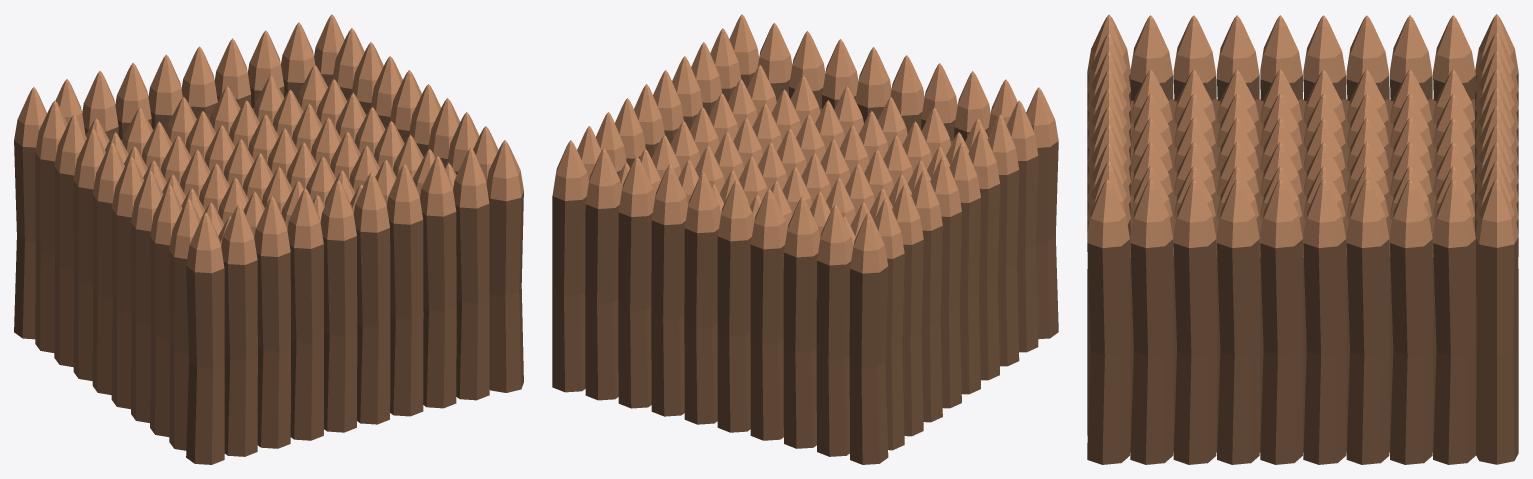
Rendered from Wall.fbx.
3 views of the same model, side by side, from view 1: azimuth 30°, elevation 25°; view 2: azimuth 150°, elevation 25°; view 3: azimuth 270°, elevation 25° (orthographic). The views are drawn at different scales.
Parts seen in each view (by area): view 1: Cube.007; view 2: Cube.007; view 3: Cube.007.
Part boxes in pixels (bbox=[...]): Cube.007: bbox=[14, 14, 523, 464]; Cube.007: bbox=[552, 14, 1058, 464]; Cube.007: bbox=[1087, 14, 1518, 464].
Bounding box in the file's own units: 200 × 142 × 200.
